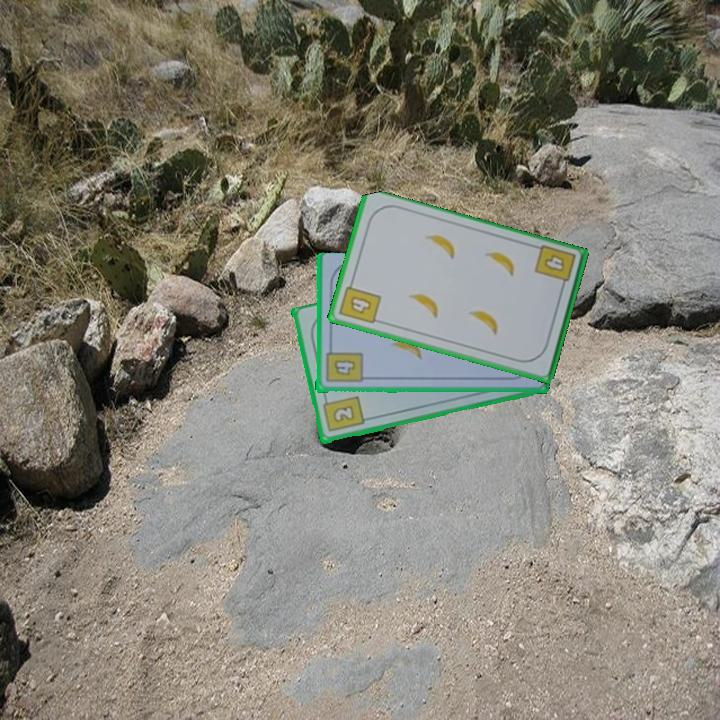2b: (319, 393, 366, 435)
4b: (336, 277, 384, 327), (531, 242, 578, 293), (322, 343, 364, 386)
